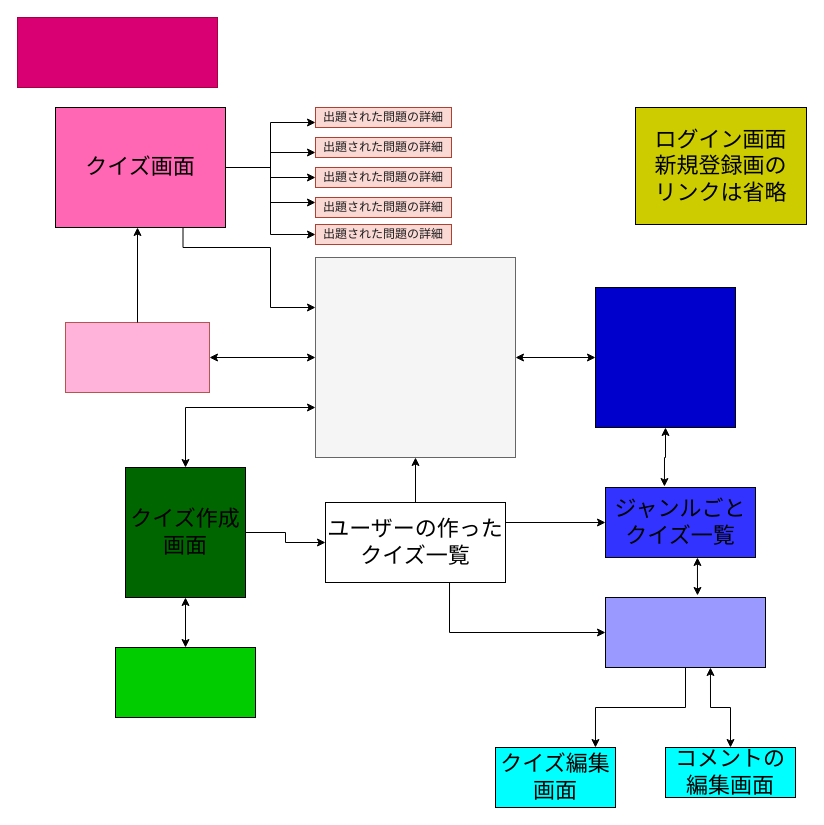
Some shapes in this 824 by 825 pixel diagram are drawn without their labels. Here are the shapes that lost their labels. From the top down, the centre of each, then its label:
At (117,52): "画面リンク図".
At (137,357): "ジャンル選択画面".
At (415,357): "タイトル画面".
At (665,357): "総クイズ一覧画面".
At (685,632): "クイズの内容とコメント画面".
At (185,682): "ジャンル作成画面".
